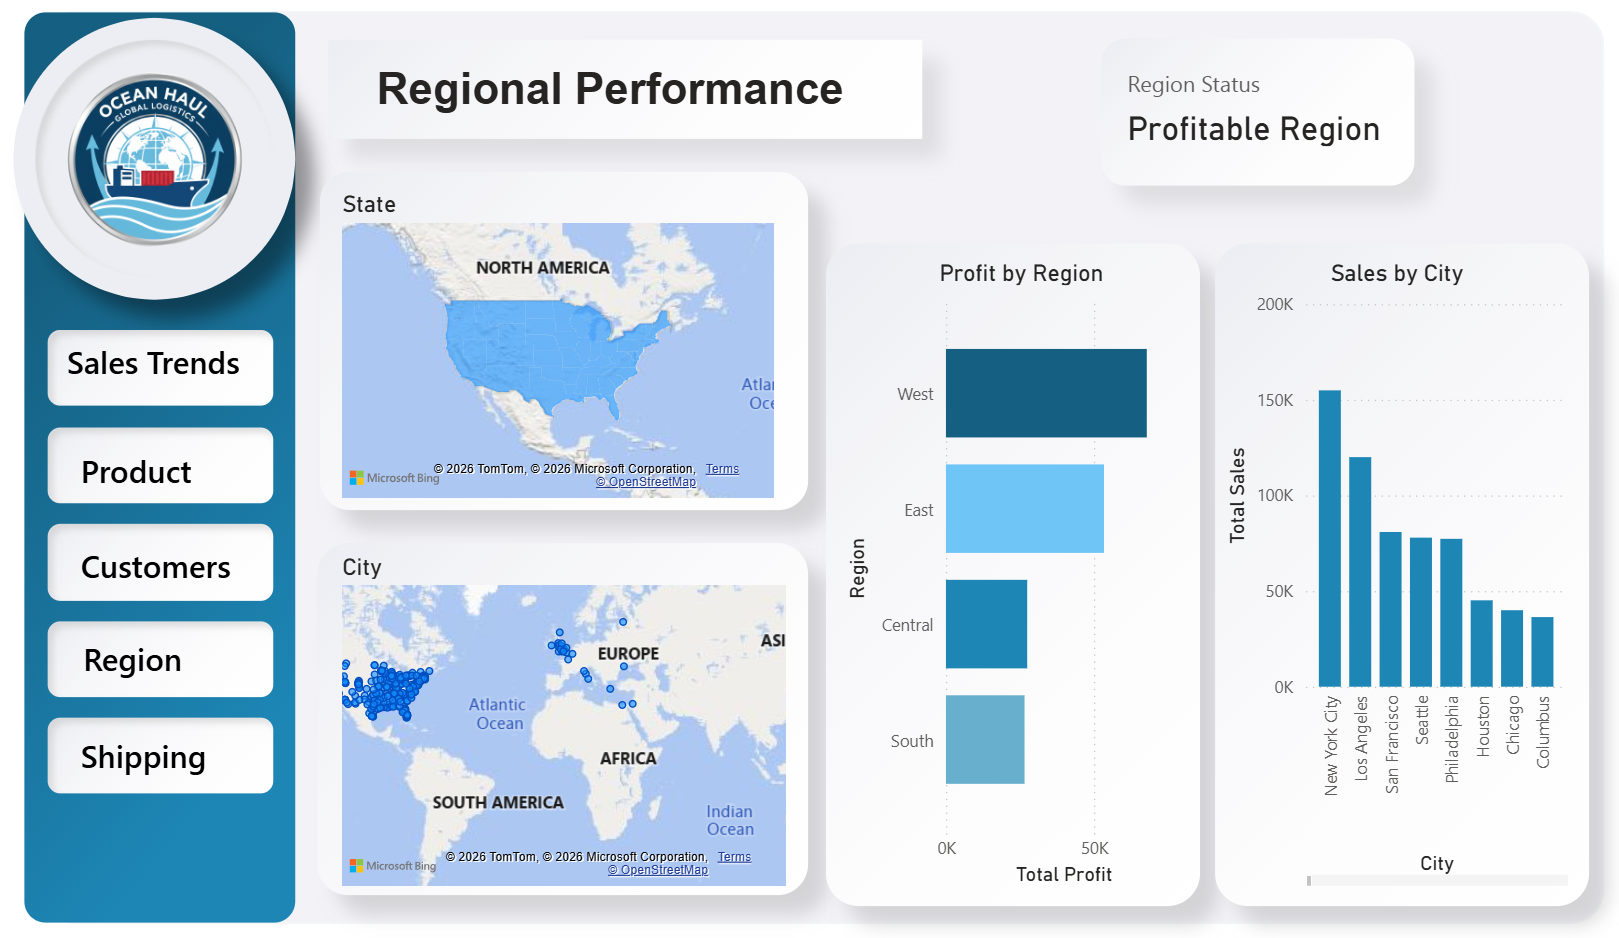

The dashboard page shown, as its layout file describes it:
{"tool":"powerbi","page":{"name":"Page 5","canvas":[1280,720],"ordinal":4},"visuals":[{"type":"textbox","box":[221.2,60,572.5,73.8],"z":7000},{"type":"filledMap","fields":{"Category":["Sheet1.State"]},"box":[307.5,156.2,323.8,228.8],"z":8000},{"type":"map","fields":{"Category":["Sheet1.City"]},"box":[307.5,420,332.5,247.5],"z":9000},{"type":"clusteredBarChart","title":"Profit by Region","fields":{"Category":["Sheet1.Region"],"Y":["Sheet1.Total Profit"]},"box":[673.8,206.2,265,461.2],"z":10000},{"type":"clusteredColumnChart","title":"Sales by City","fields":{"Category":["Sheet1.City"],"Y":["Sheet1.Total Sales"]},"box":[950,206.2,258.8,461.2],"z":11000},{"type":"cardVisual","fields":{"Data":["Sheet1.Region Status"]},"box":[866.2,37.5,261.2,118.8],"z":12000},{"type":"actionButton","box":[111.2,261.2,146.2,40],"z":12001},{"type":"actionButton","box":[122.5,476.2,146.2,40],"z":12002},{"type":"actionButton","box":[121.2,408.8,147.5,40],"z":12003},{"type":"actionButton","box":[121.2,547.5,147.5,40],"z":12004},{"type":"actionButton","box":[121.2,338.8,147.5,41.2],"z":12005},{"type":"image","box":[82.5,42.5,186.2,183.8],"z":12006}]}

Visuals, with their boxes in screenshot pixels (x1, y1, x2, y2), scaled from the page's 1280x720 canvas onto the 1619x938 screenshot:
textbox: [x1=280, y1=78, x2=1004, y2=174]
filledMap - Sheet1.State: [x1=389, y1=203, x2=798, y2=502]
map - Sheet1.City: [x1=389, y1=547, x2=810, y2=870]
"Profit by Region" clusteredBarChart: [x1=852, y1=269, x2=1187, y2=869]
"Sales by City" clusteredColumnChart: [x1=1202, y1=269, x2=1529, y2=869]
cardVisual - Sheet1.Region Status: [x1=1096, y1=49, x2=1426, y2=204]
actionButton: [x1=141, y1=340, x2=326, y2=392]
actionButton: [x1=155, y1=620, x2=340, y2=672]
actionButton: [x1=153, y1=533, x2=340, y2=585]
actionButton: [x1=153, y1=713, x2=340, y2=765]
actionButton: [x1=153, y1=441, x2=340, y2=495]
image: [x1=104, y1=55, x2=340, y2=295]
